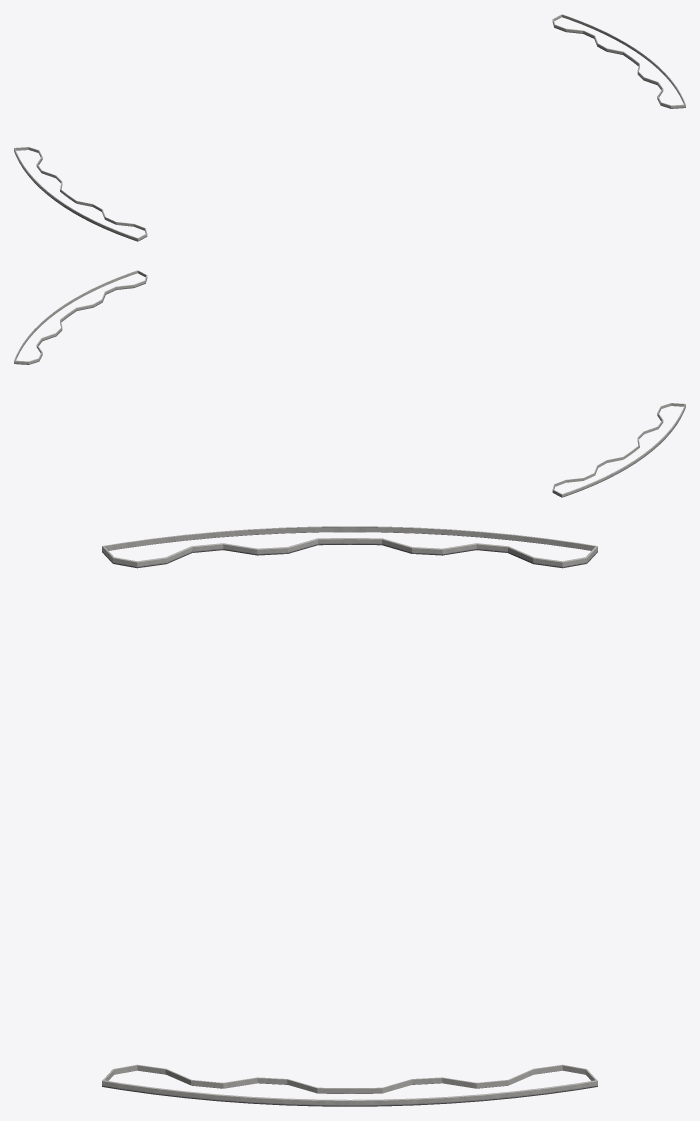
The model's file is GardenUpper.dae.
3 renders of one model, top to bottom at view 1: azimuth 30°, elevation 25°; view 2: azimuth 150°, elevation 25°; view 3: azimuth 270°, elevation 25°, orthographic. The views are drawn at different scales.
Visible parts, largest first — view 1: GardenUpper; view 2: GardenUpper; view 3: GardenUpper.
Boxes of the visible parts, x1=… form: GardenUpper: x1=14, y1=14, x2=685, y2=241; GardenUpper: x1=14, y1=270, x2=685, y2=497; GardenUpper: x1=102, y1=526, x2=597, y2=1106.
Size of the model in its own units: 195 by 71.33 by 0.97.
Materials: 1 (1 with a texture image).
